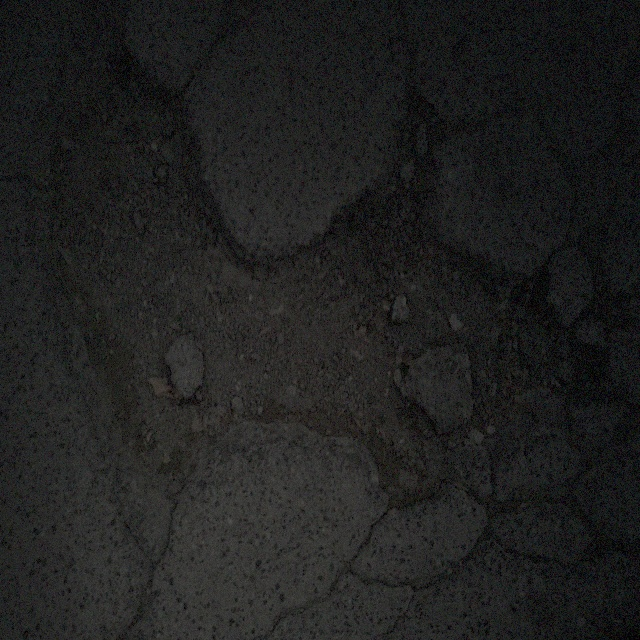pothole: (38, 40, 614, 517)
